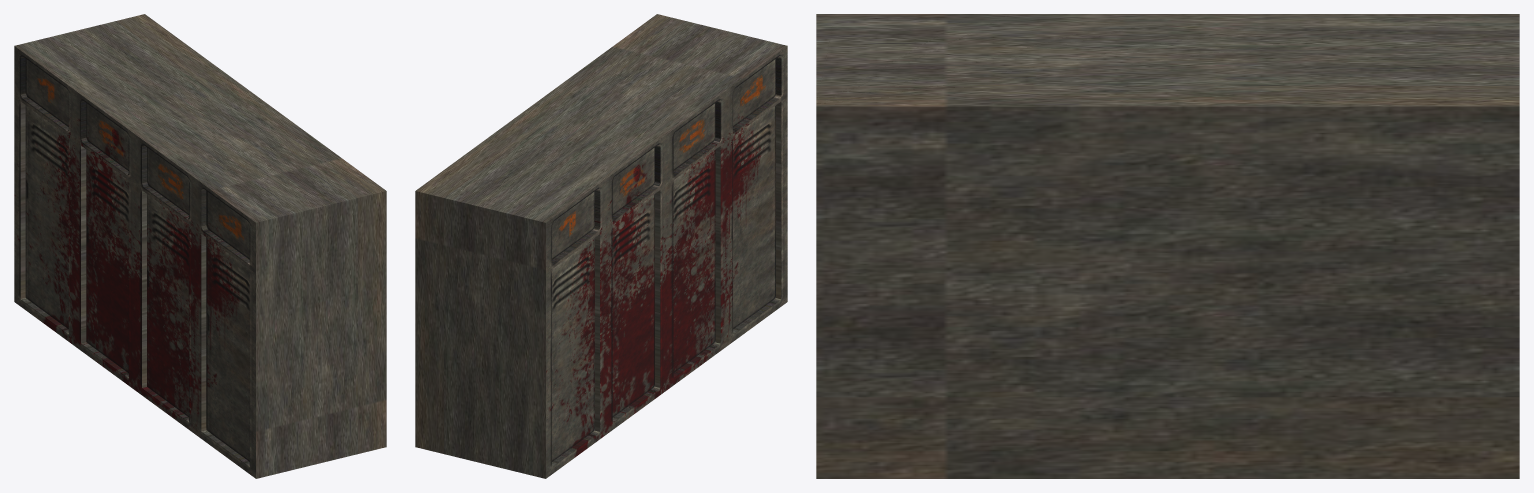
File: LockerBloodyFBX.FBX
3 renders of one model, left to right at view 1: azimuth 30°, elevation 25°; view 2: azimuth 150°, elevation 25°; view 3: azimuth 270°, elevation 25°, orthographic. The views are drawn at different scales.
Parts seen in each view (by area): view 1: Box001; view 2: Box001; view 3: Box001.
Part boxes in pixels (x1,y1,x2,y2): Box001: (14, 14, 386, 478); Box001: (415, 14, 787, 478); Box001: (816, 14, 1519, 478).
Size of the model in its own units: 25.6 by 48 by 82.13.
